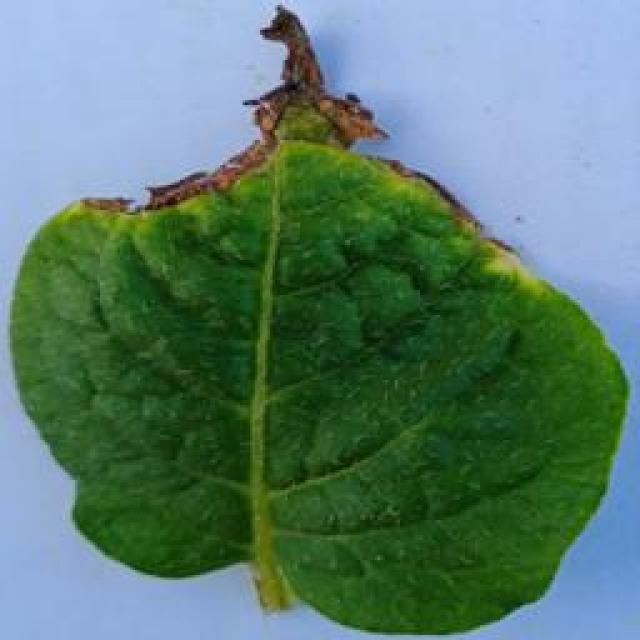Potato_Late_Blight: (13, 10, 622, 638)
